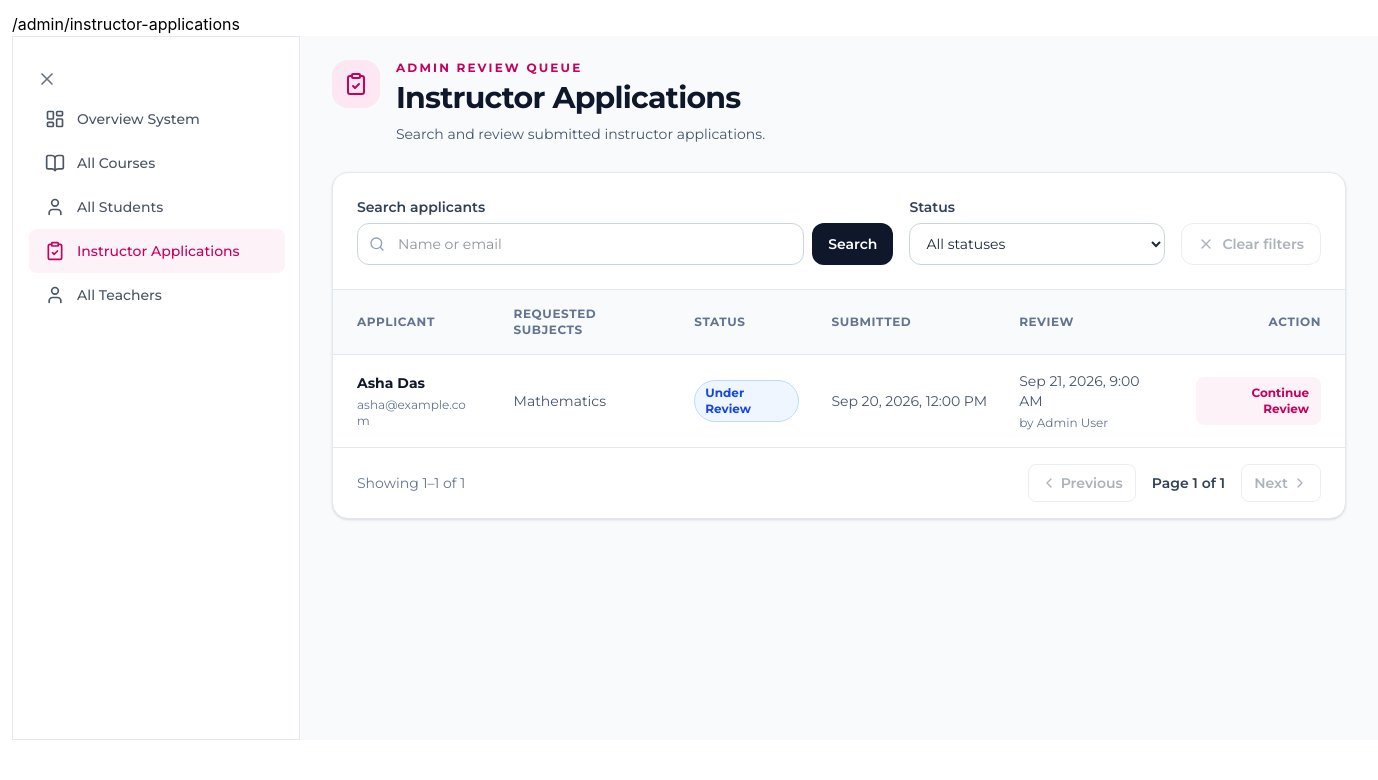
Test: Instructor applications list › submits trimmed search and status through URL-backed server queries
The width and height of the screenshot is (1378, 780).
Expected: the text "Asha Das" is shown, 357,374 -> 425,392
Type "  asha  " into the search field labelled "Search applicants" at [581, 244], box 357,223 -> 804,265
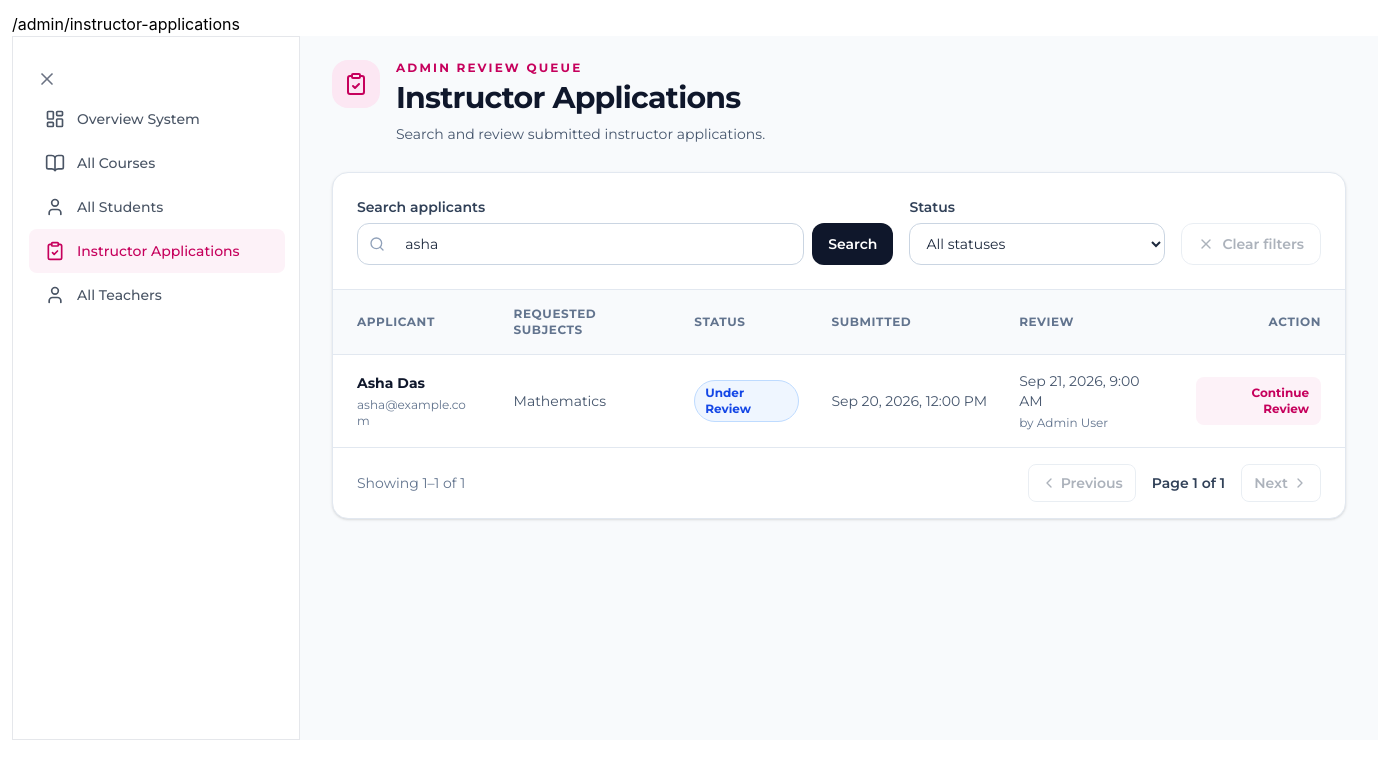
Click the button "Search" at [853, 244], box 812,223 -> 893,265
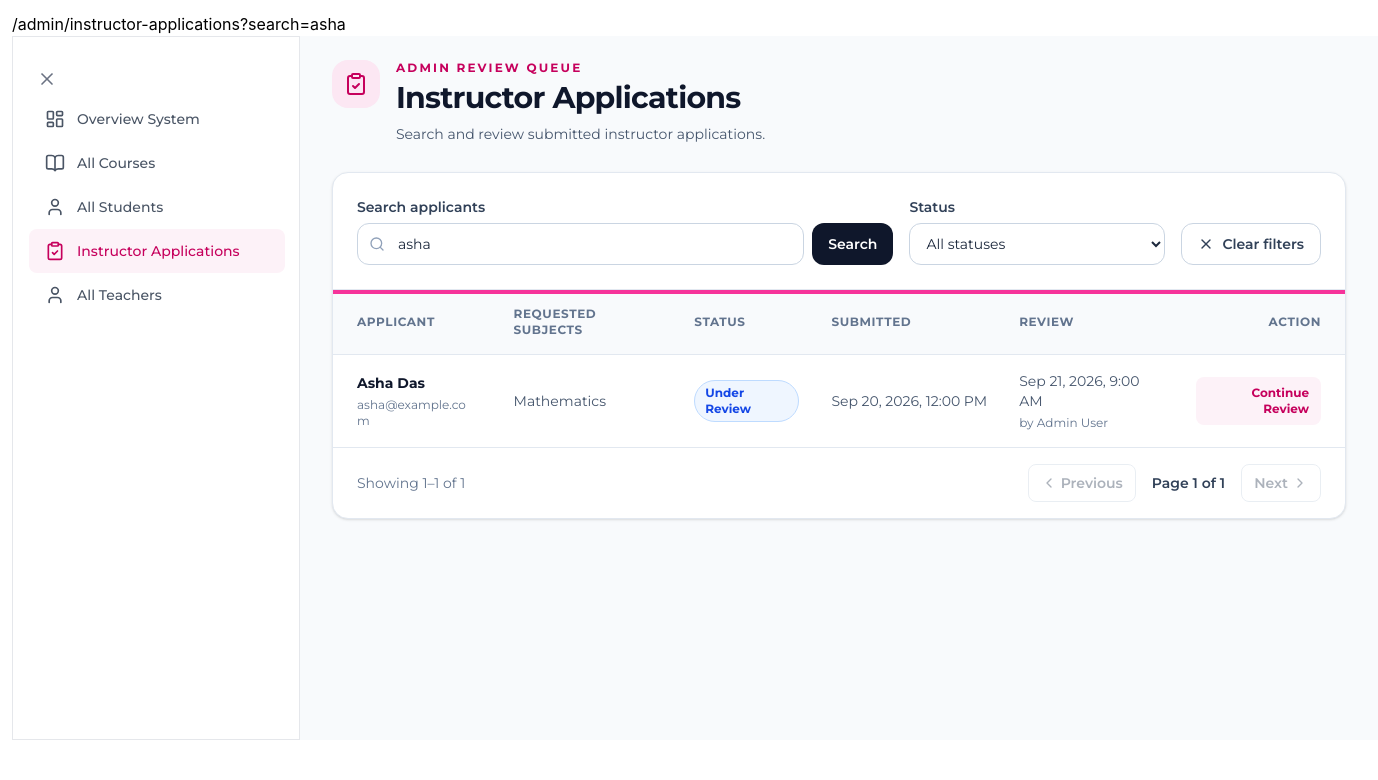
Select "Submitted" in the dropdown labelled "Status" at [1037, 244], box 909,223 -> 1165,265
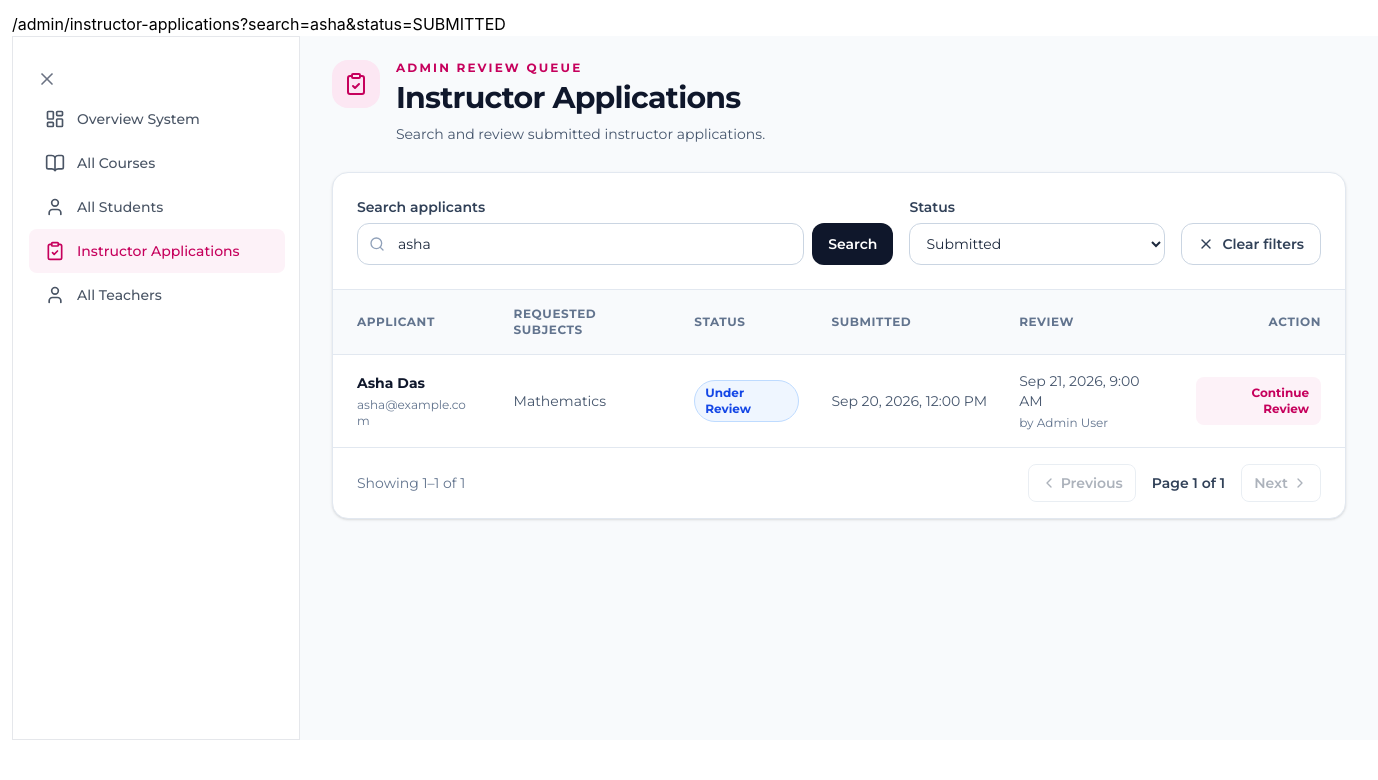
Now the text with test id "location" shows "status=SUBMITTED", box 240,14 -> 506,34
